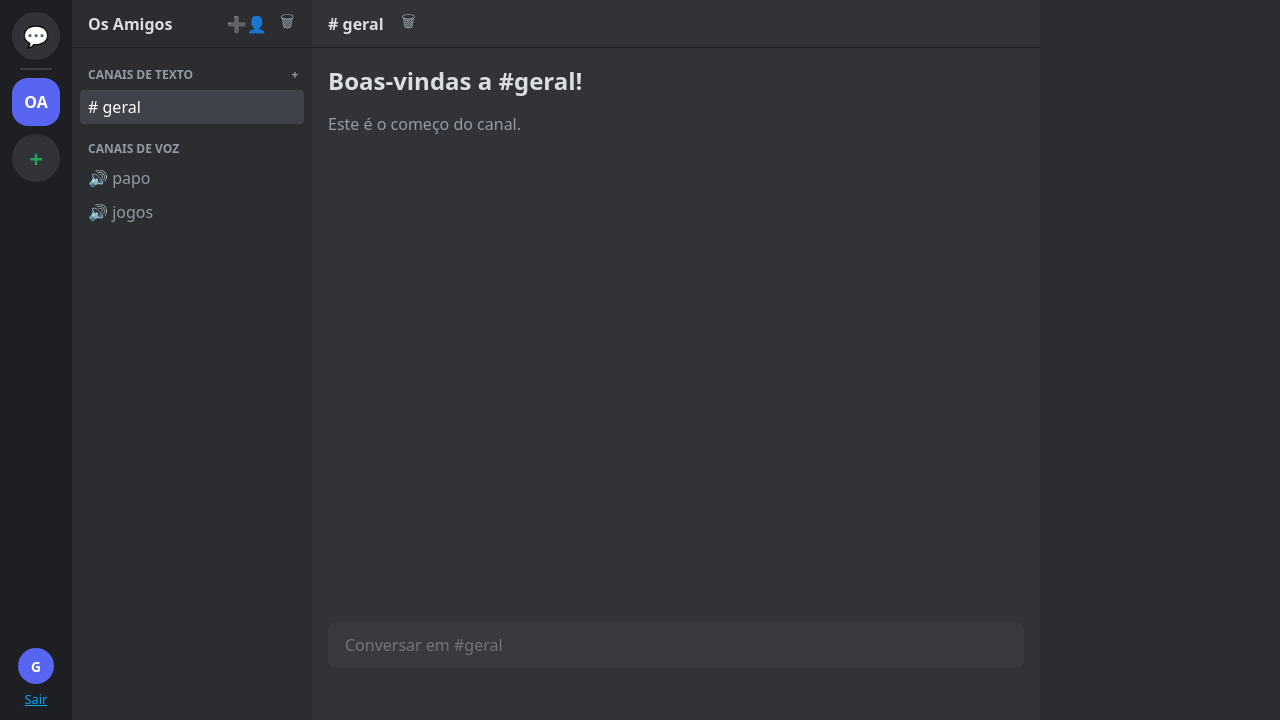
Test: entrar e sair da voz › pede o token, conecta no LiveKit e liga o microfone
This screenshot has width=1280, height=720.
What coordinates should you click on to do the following:
click the button with aria-label "Entrar no canal de voz papo"
I would click on:
 (179, 178)
Its box is [80,161,278,195].
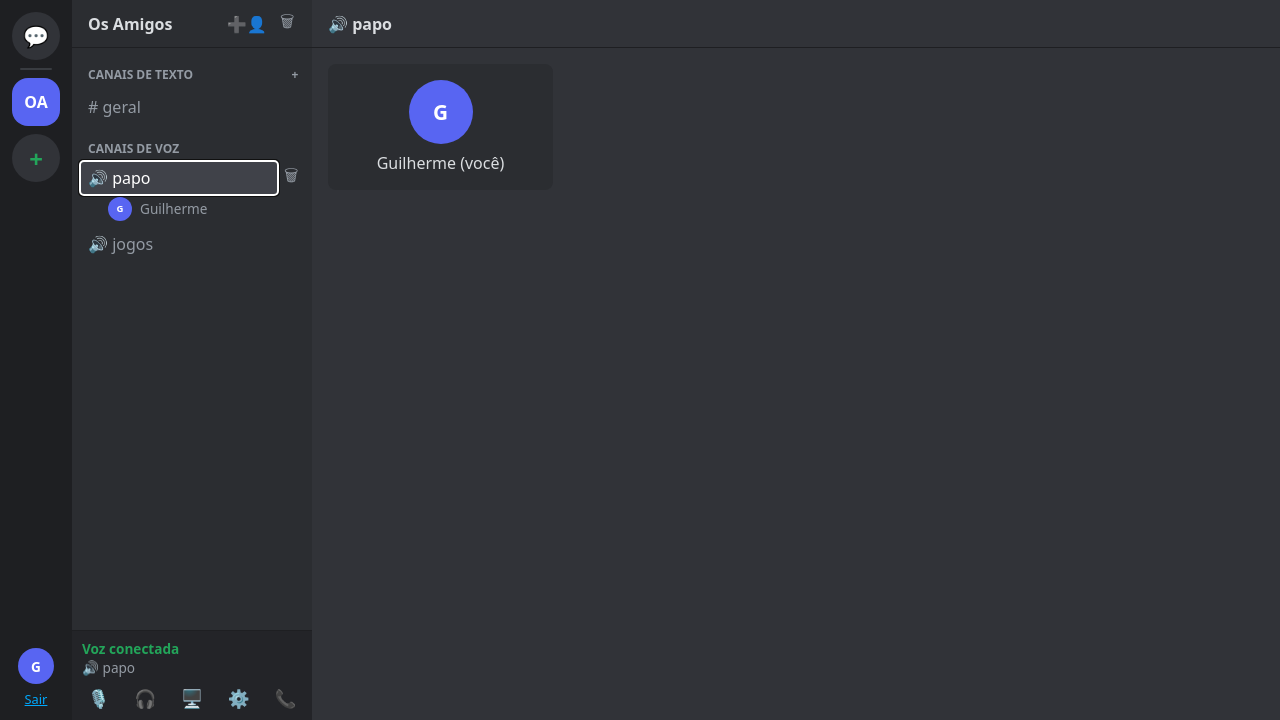
Expected: the text "Voz conectada" is shown, [82,639,179,658]
Expected: the text "Guilherme" is shown, [140,199,207,218]
